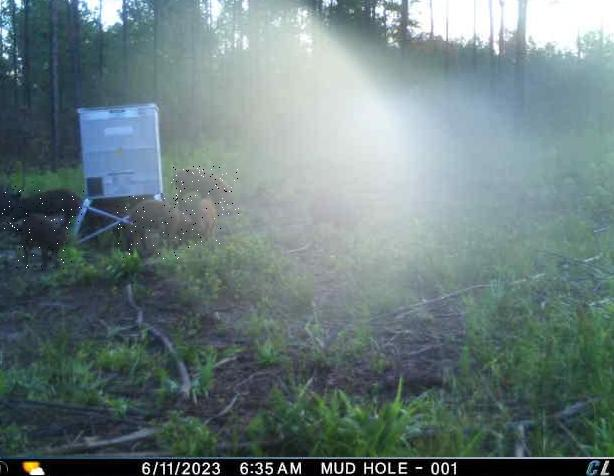Hog: (118, 196, 190, 260), (16, 215, 73, 274), (172, 166, 240, 215), (17, 188, 88, 227), (187, 196, 222, 248), (0, 184, 23, 231)
